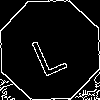L: (25, 25, 69, 78)
